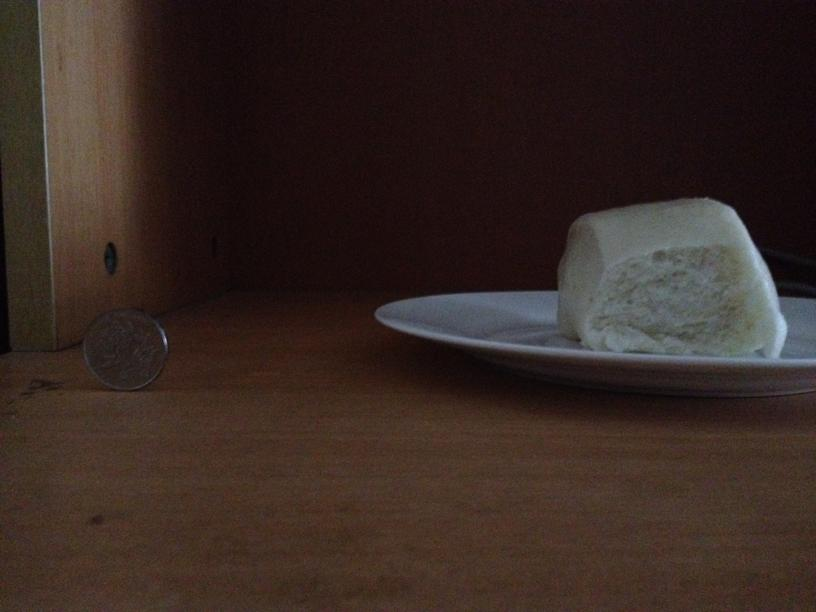bun: (554, 198, 786, 356)
coin: (80, 309, 168, 389)
